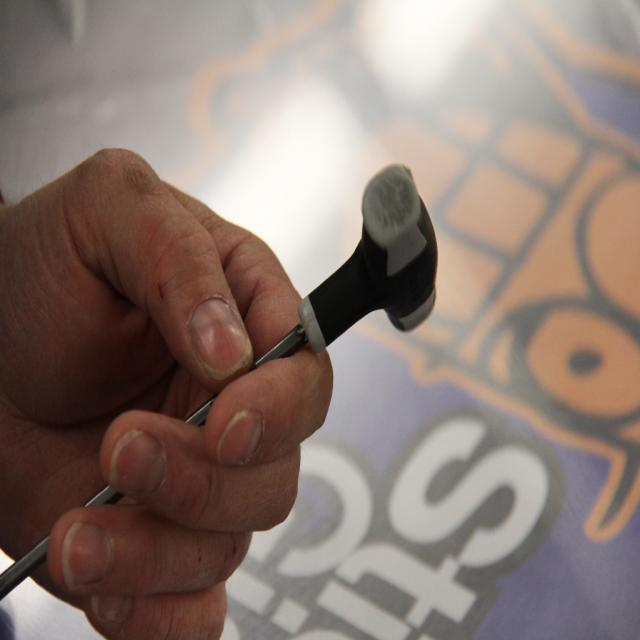hammer: (0, 162, 439, 599)
